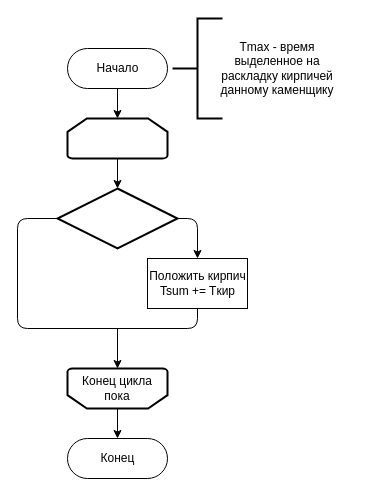
Image size: 365x496. Some labels were removed from this diagram. Each missing label, with the box of its shape:
Кирпичи под существуют?: (56, 187, 178, 249)
Цикл пока Tsum < Tmax: (66, 117, 168, 159)
